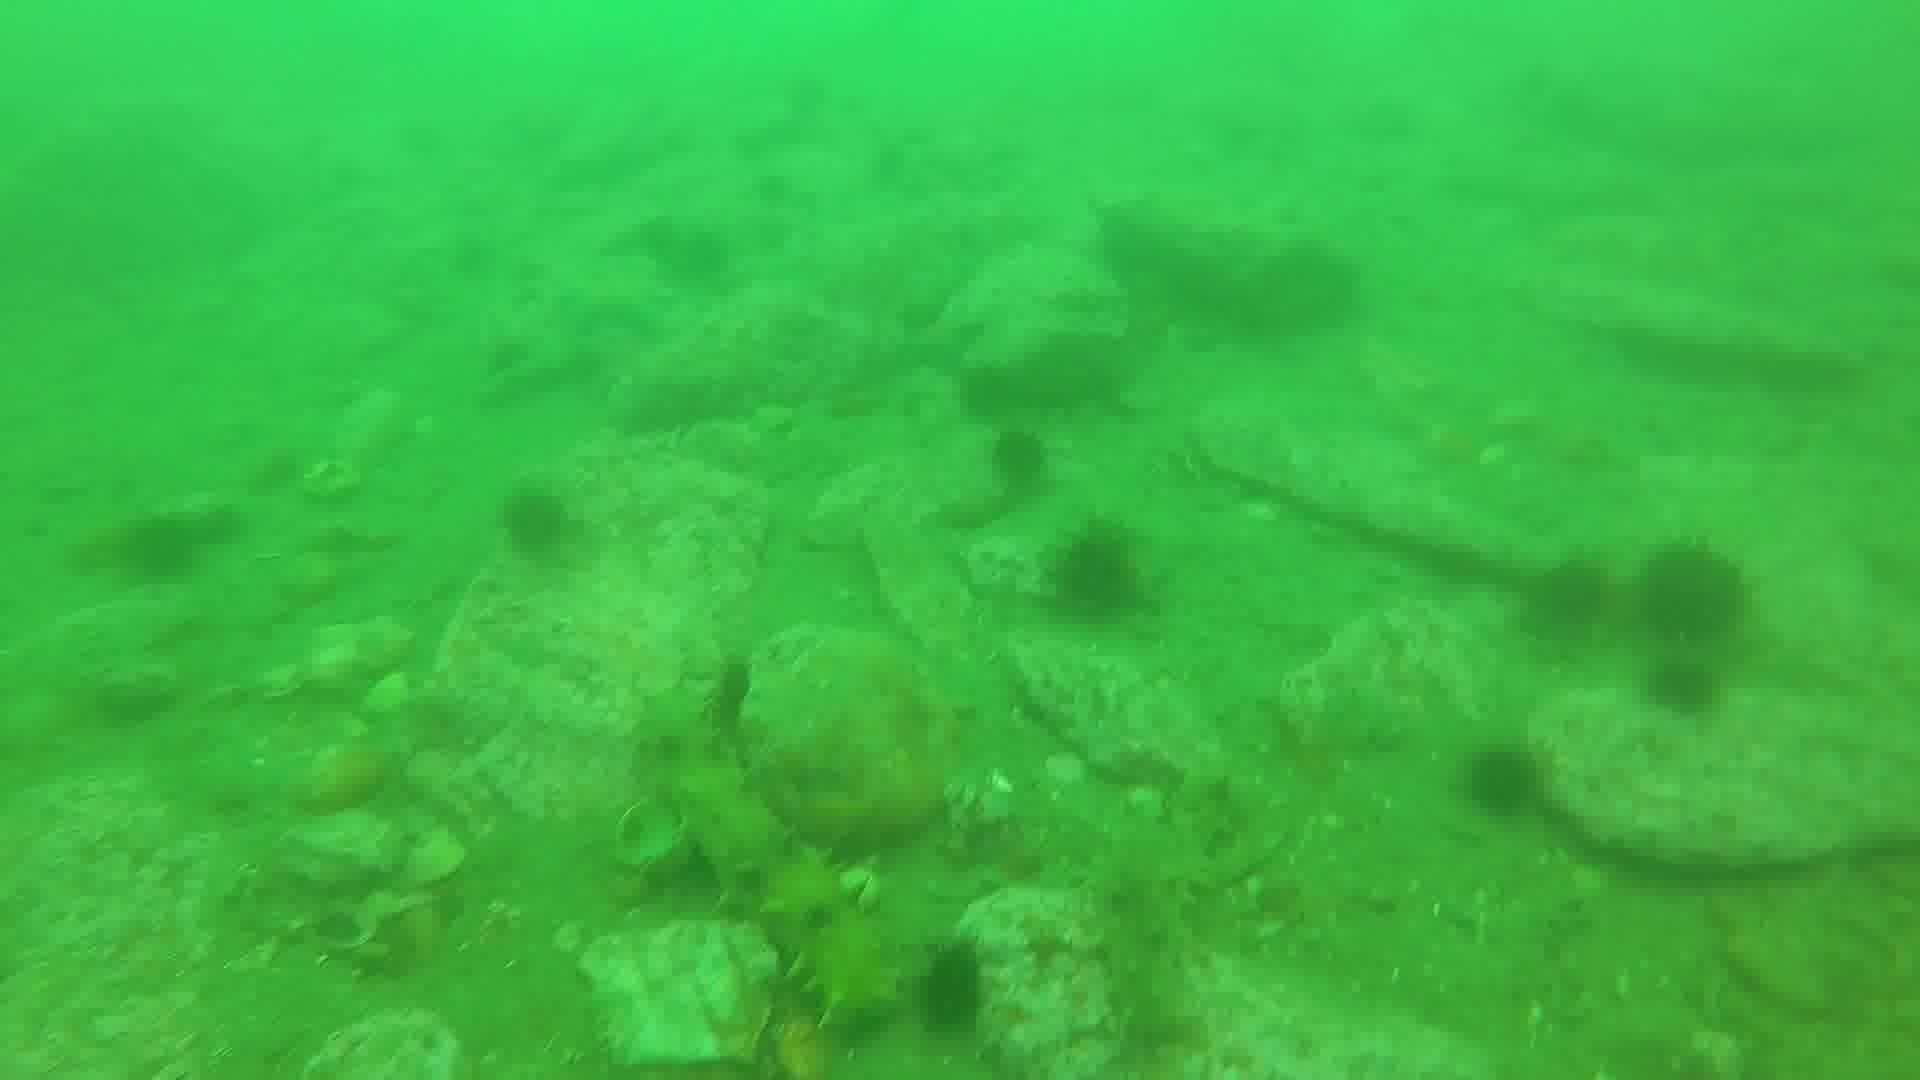echinus: (1634, 539, 1753, 647), (1042, 524, 1149, 626), (909, 938, 996, 1040), (1520, 555, 1613, 640), (109, 510, 207, 589), (1460, 741, 1545, 822), (495, 483, 578, 563), (1640, 653, 1725, 723), (982, 425, 1056, 495), (953, 361, 1025, 427), (744, 160, 794, 206), (440, 232, 491, 278), (392, 115, 442, 161), (249, 444, 299, 491), (193, 506, 243, 553), (67, 531, 117, 578)
holothurian: (629, 673, 903, 1029), (1085, 775, 1226, 1060)
scallop: (607, 796, 692, 876)
starfish: (564, 252, 691, 338), (893, 301, 988, 378)
